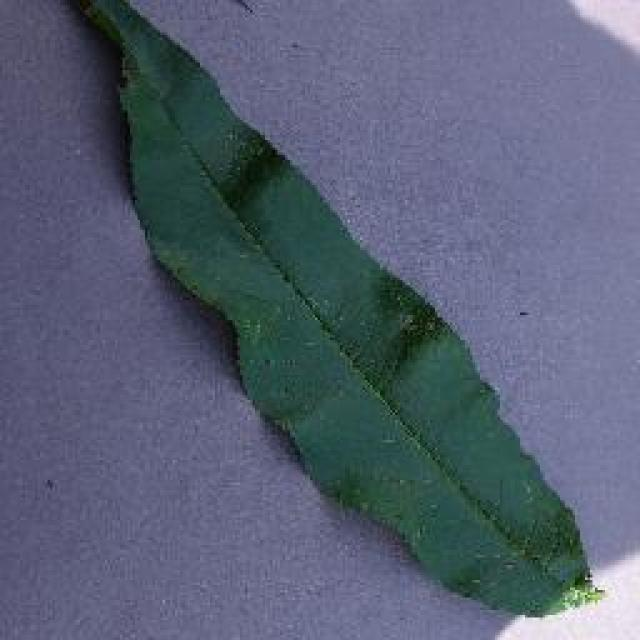Peach_Bacterial_Spot: (297, 266, 570, 542)
